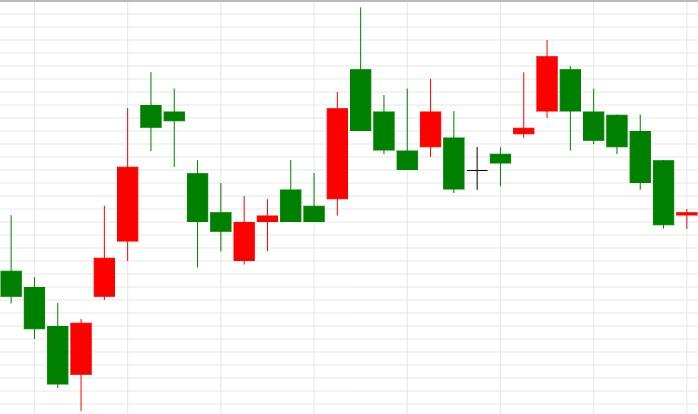three_white_soldiers_rise: (1, 108, 138, 411)
